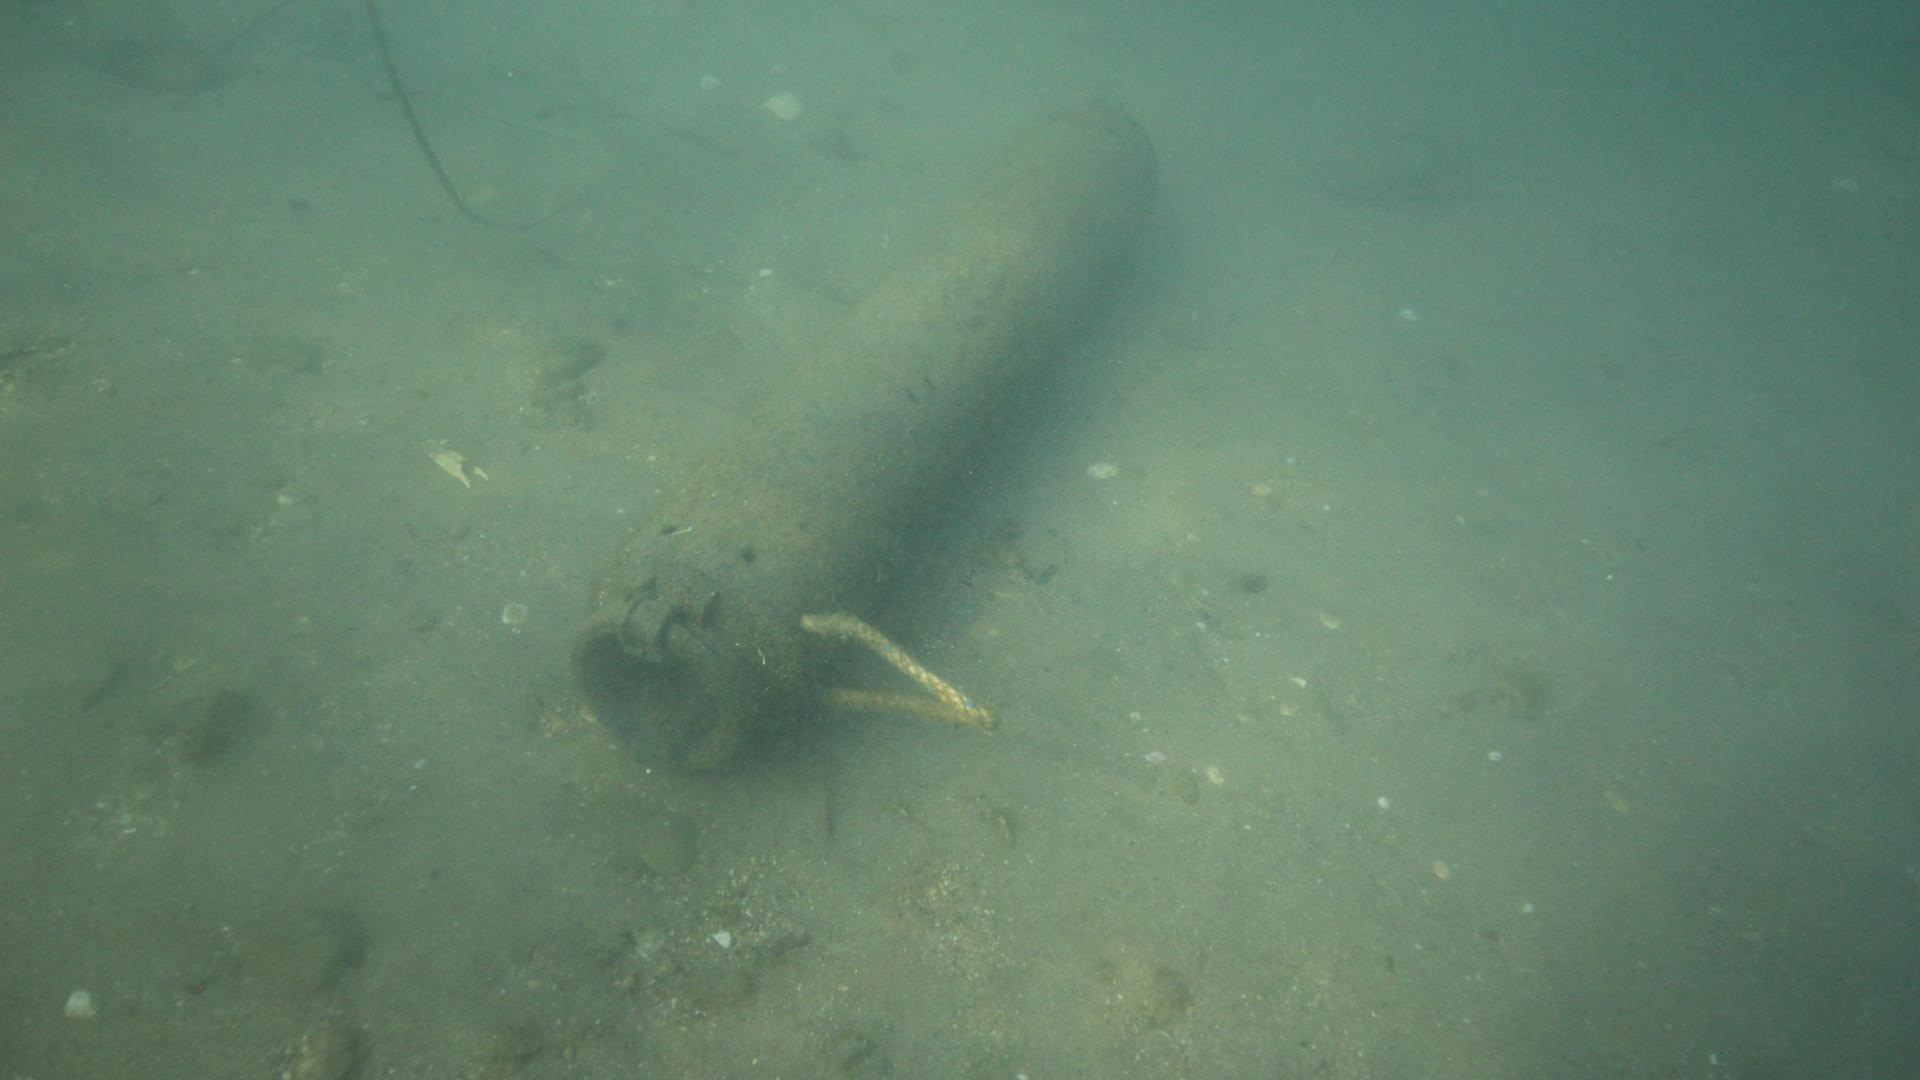eel fish trap: (564, 99, 1156, 775)
rope: (796, 607, 998, 731)
